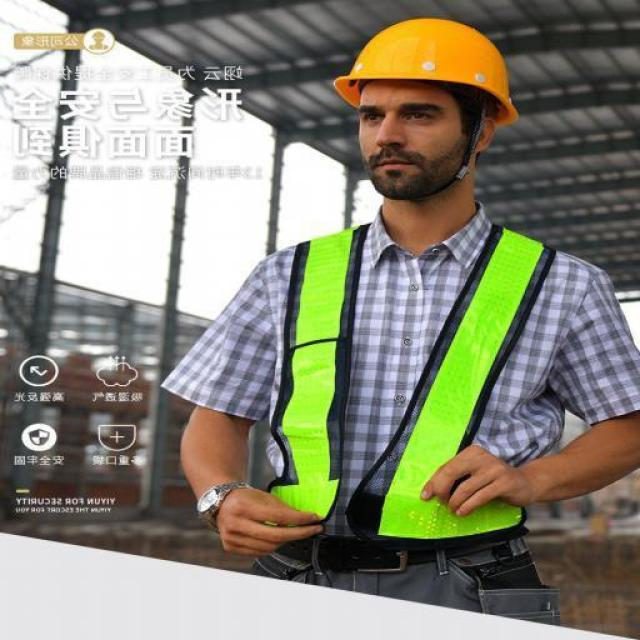vest: (277, 252, 518, 536)
